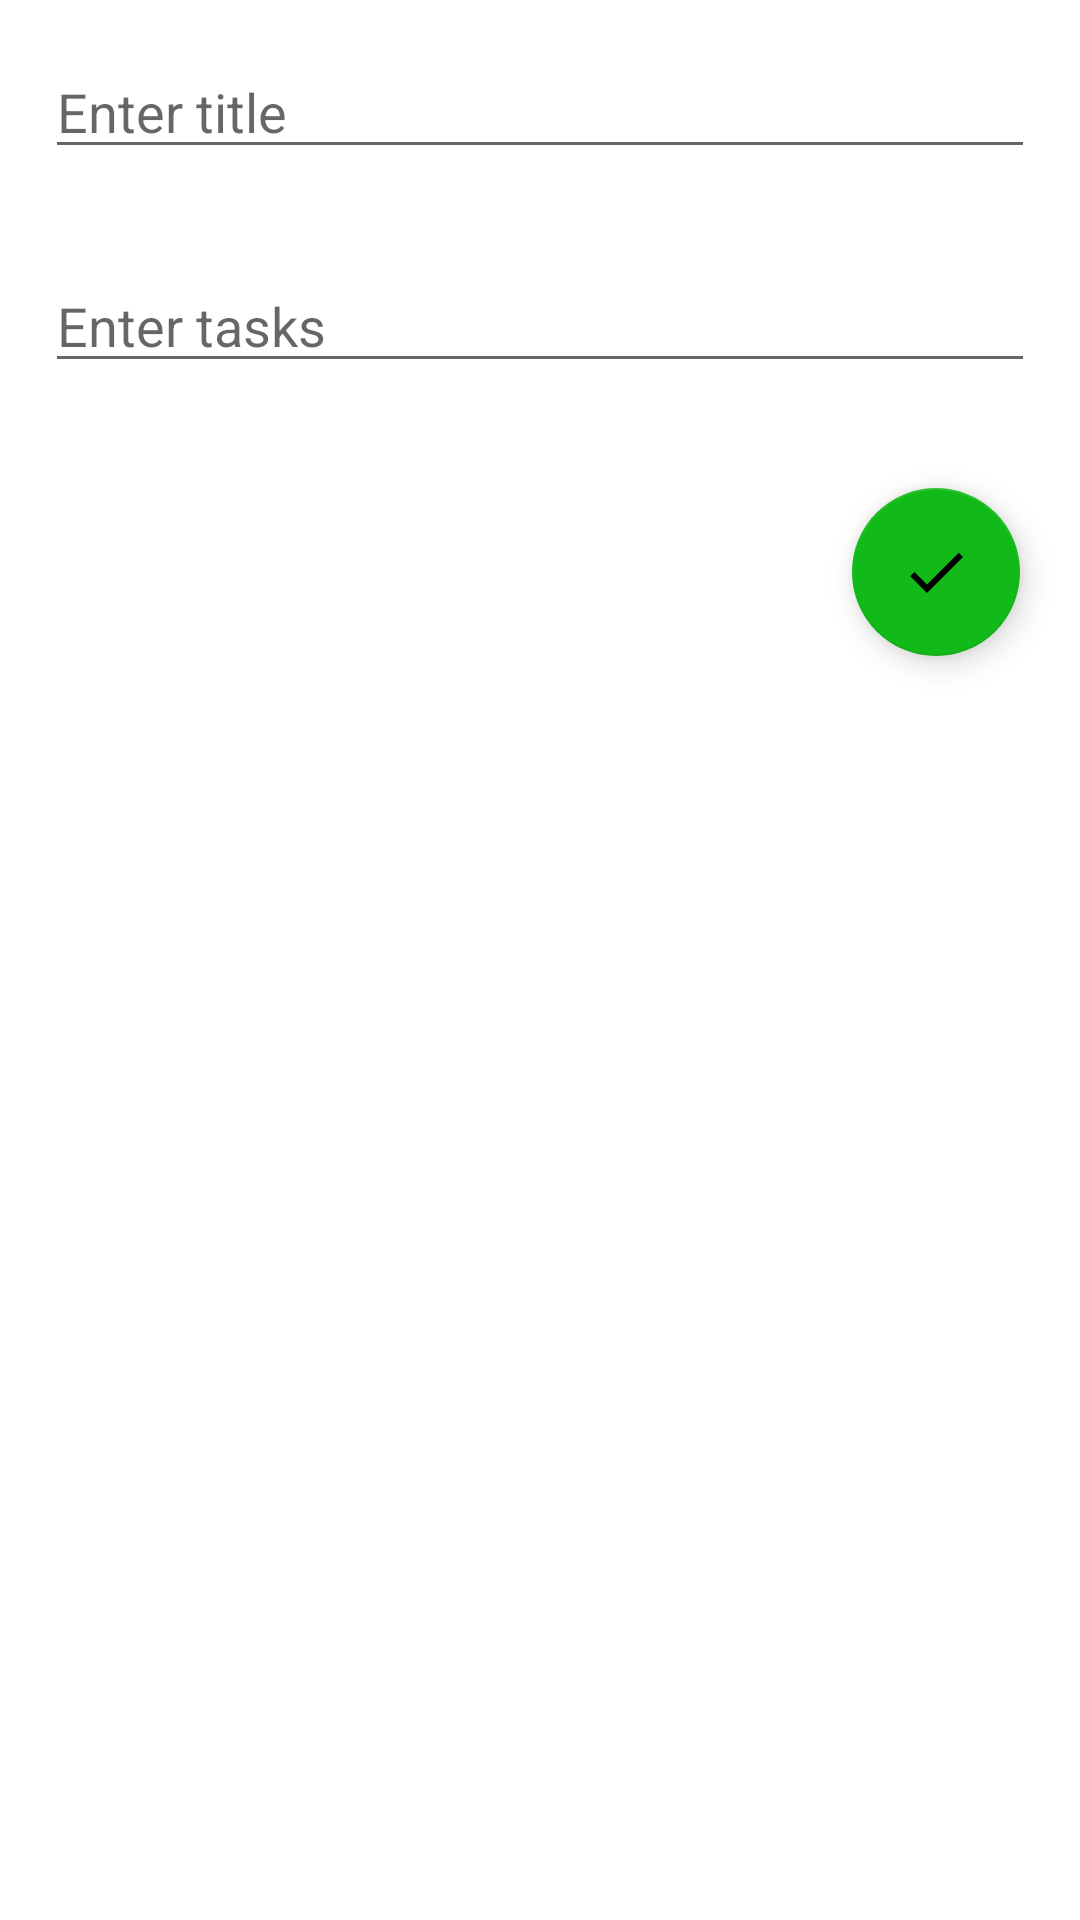

Locate icon controls on the screen. Image size 1080px x 1920px, boxes as box(x1, y1, x2, y2).
check: box(852, 488, 1020, 656)
